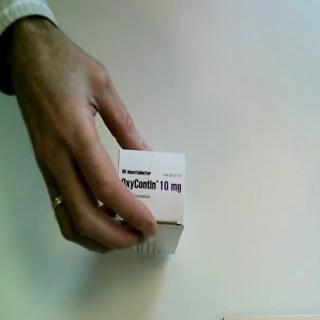oxynorm10mg: (115, 148, 188, 258)
